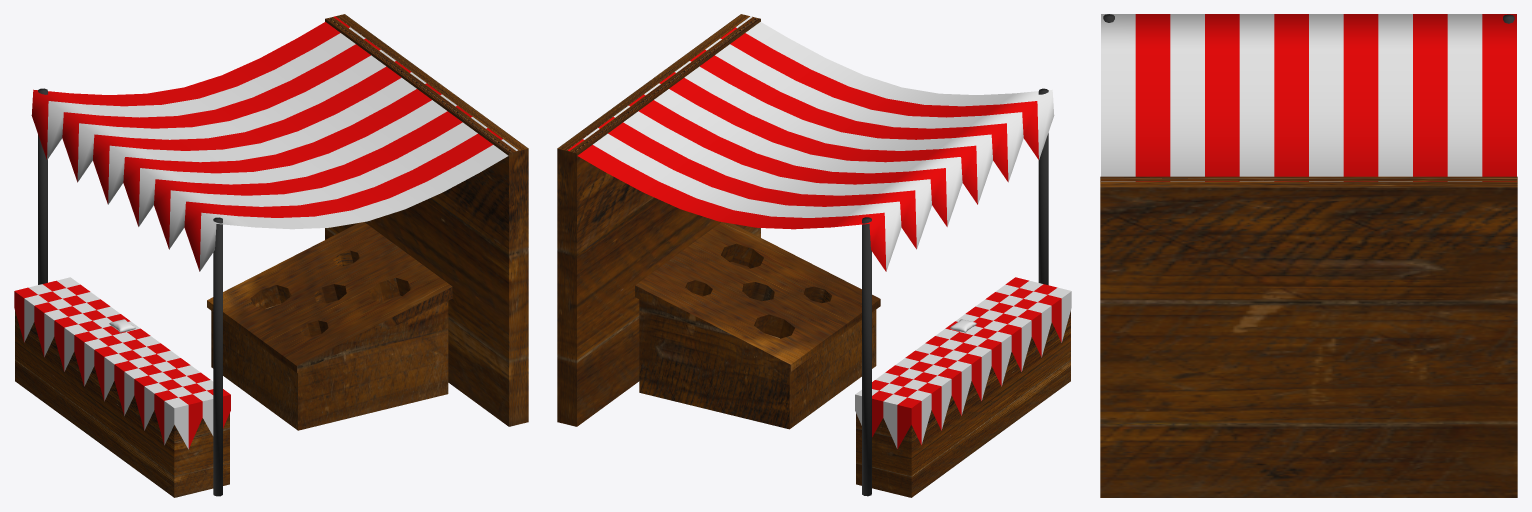
The model's file is beanbag stand.fbx.
The picture shows the model from 3 angles, left to right: view 1: azimuth 30°, elevation 25°; view 2: azimuth 150°, elevation 25°; view 3: azimuth 270°, elevation 25°; orthographic projection. The views are drawn at different scales.
Parts seen in each view (by area): view 1: tarp, beanbag goal, Booth backboard, Counter tablecloth, Counter, tarp.001, tentpole 1, tentpole 2; view 2: tarp, beanbag goal, Booth backboard, Counter tablecloth, Counter, tarp.001, tentpole 2, tentpole 1; view 3: Booth backboard, tarp.
Part boxes in pixels (bbox=[...]): tarp: bbox=[31, 16, 517, 271]; beanbag goal: bbox=[207, 222, 452, 430]; Booth backboard: bbox=[325, 14, 528, 426]; Counter tablecloth: bbox=[14, 277, 230, 449]; Counter: bbox=[15, 311, 229, 497]; tarp.001: bbox=[40, 96, 216, 267]; tentpole 1: bbox=[213, 217, 222, 496]; tentpole 2: bbox=[38, 88, 47, 284]; tarp: bbox=[568, 16, 1053, 270]; beanbag goal: bbox=[635, 222, 880, 429]; Booth backboard: bbox=[557, 14, 760, 426]; Counter tablecloth: bbox=[855, 277, 1071, 449]; Counter: bbox=[856, 311, 1070, 497]; tarp.001: bbox=[869, 108, 1054, 271]; tentpole 2: bbox=[862, 217, 871, 496]; tentpole 1: bbox=[1038, 88, 1048, 285]; Booth backboard: bbox=[1100, 176, 1517, 497]; tarp: bbox=[1101, 14, 1516, 181].
Size of the model in its own units: 270 by 208 by 251.
